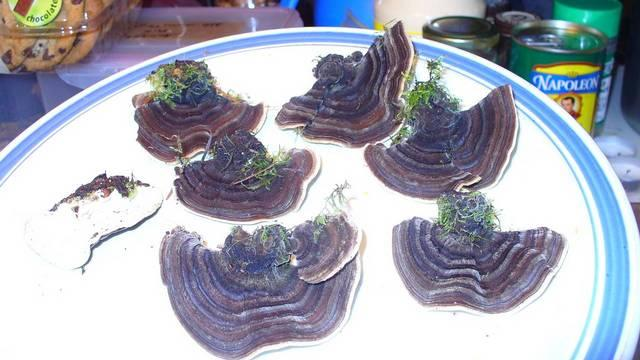Non-edible Mushroom: (158, 208, 362, 358), (390, 188, 566, 314), (363, 79, 519, 199), (274, 17, 414, 147), (131, 57, 264, 163), (172, 129, 320, 222)
